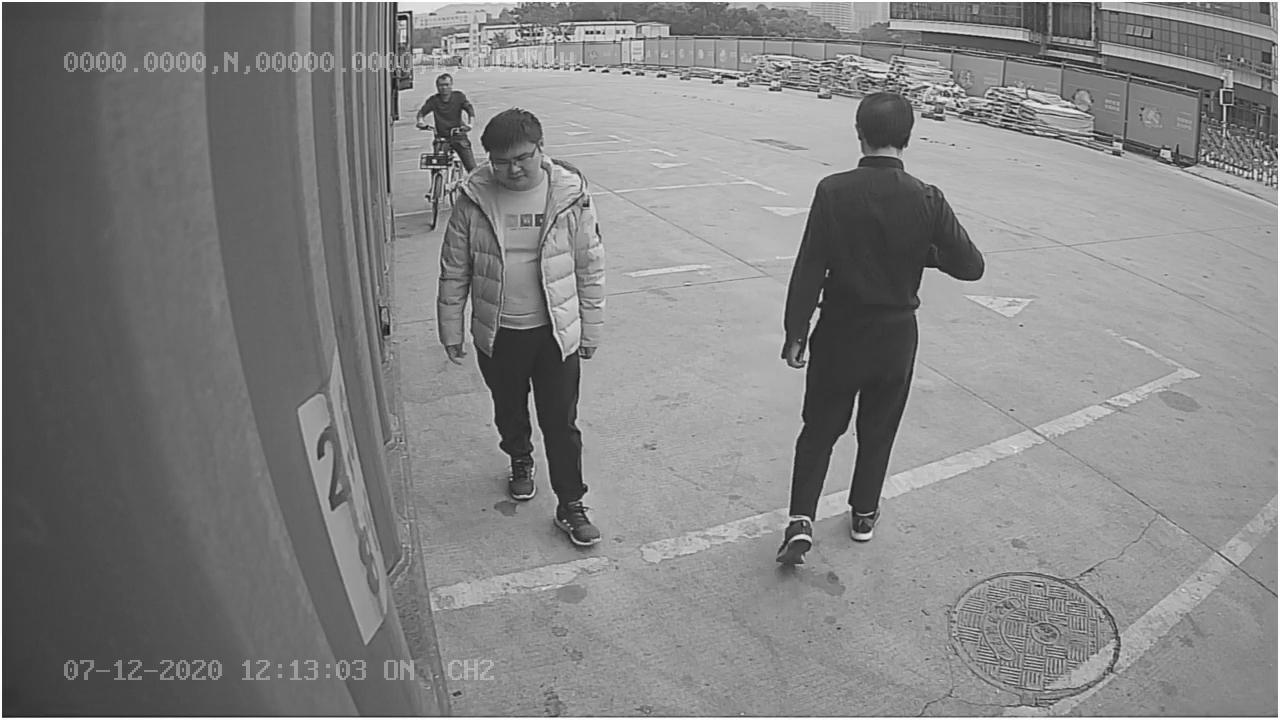person: (768, 83, 986, 565), (428, 99, 630, 560)
